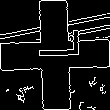L_W: (29, 38, 81, 72)
